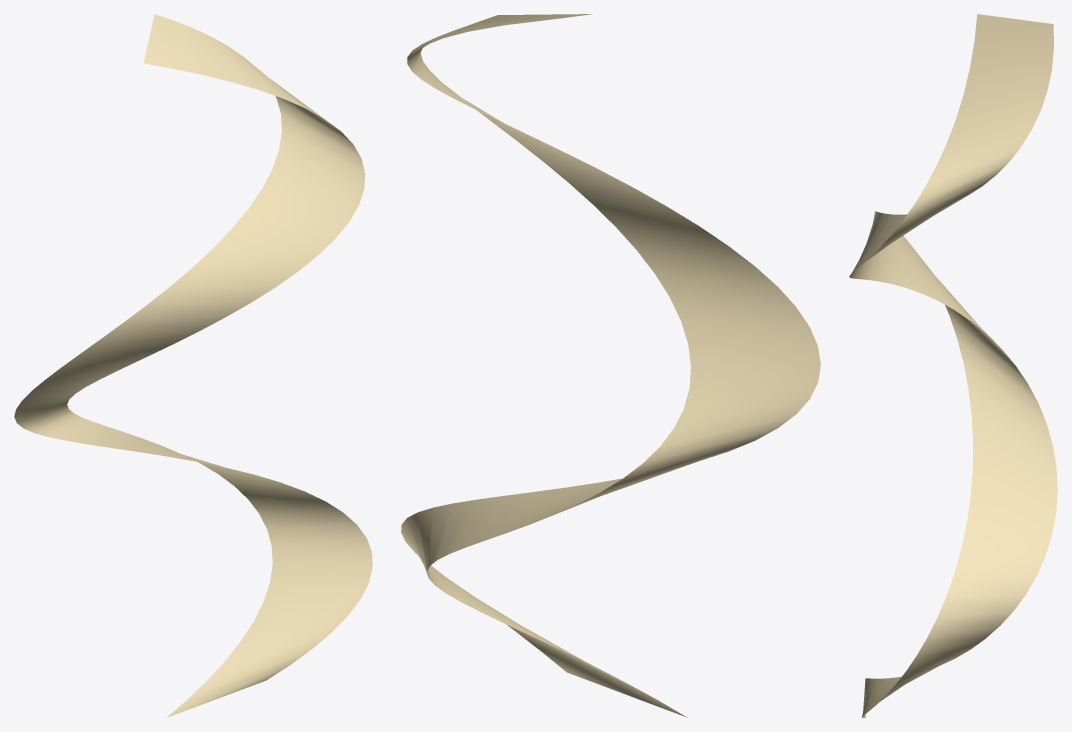
The model's file is sculptural-ribbon.glb.
3 views of the same model, side by side, from view 1: azimuth 30°, elevation 25°; view 2: azimuth 150°, elevation 25°; view 3: azimuth 270°, elevation 25° (orthographic). The views are drawn at different scales.
Parts seen in each view (by area): view 1: ribbon-0; view 2: ribbon-0; view 3: ribbon-0.
Part boxes in pixels (x1,y1,x2,y2): ribbon-0: (14, 14, 372, 717); ribbon-0: (401, 14, 820, 717); ribbon-0: (849, 14, 1057, 717).
Bounding box in the file's own units: 1.67 × 2.86 × 0.7791.
